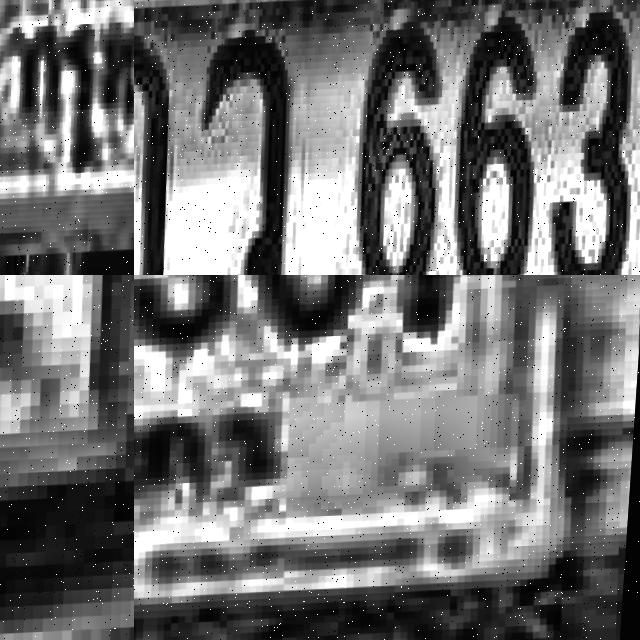license-plate: (134, 275, 618, 625), (134, 0, 640, 275), (0, 275, 134, 588), (0, 0, 134, 253)
